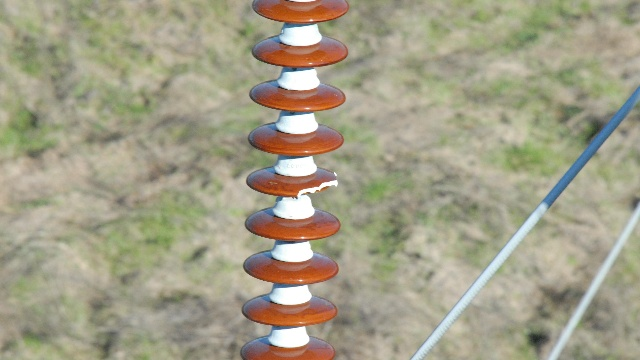broken_local: (295, 168, 340, 199)
insulator_unspecified: (238, 2, 352, 359)
